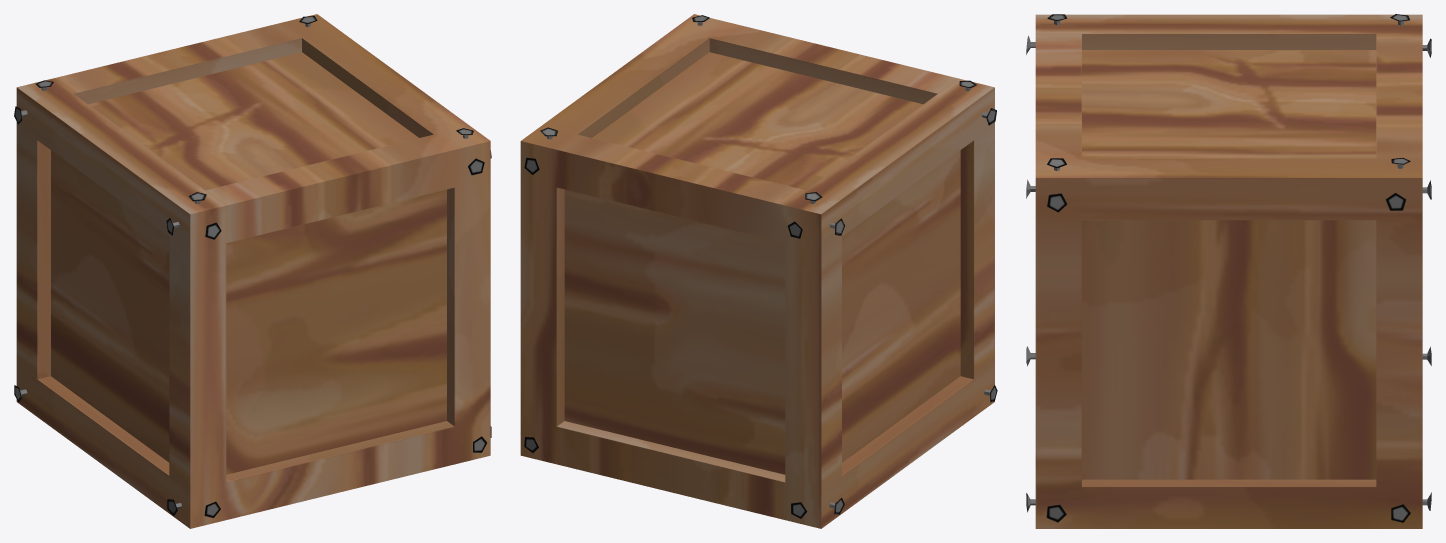
Rendered from Crate.fbx.
3 views of the same model, side by side, from view 1: azimuth 30°, elevation 25°; view 2: azimuth 150°, elevation 25°; view 3: azimuth 270°, elevation 25° (orthographic). The views are drawn at different scales.
Visible parts, largest first — view 1: Food_Crate; view 2: Food_Crate; view 3: Food_Crate.
Boxes of the visible parts, box(x1,y1,x2,y2) form: Food_Crate: box(14, 14, 491, 528); Food_Crate: box(520, 14, 997, 528); Food_Crate: box(1026, 14, 1431, 528).
Size of the model in its own units: 52.72 by 51.07 by 52.39.
